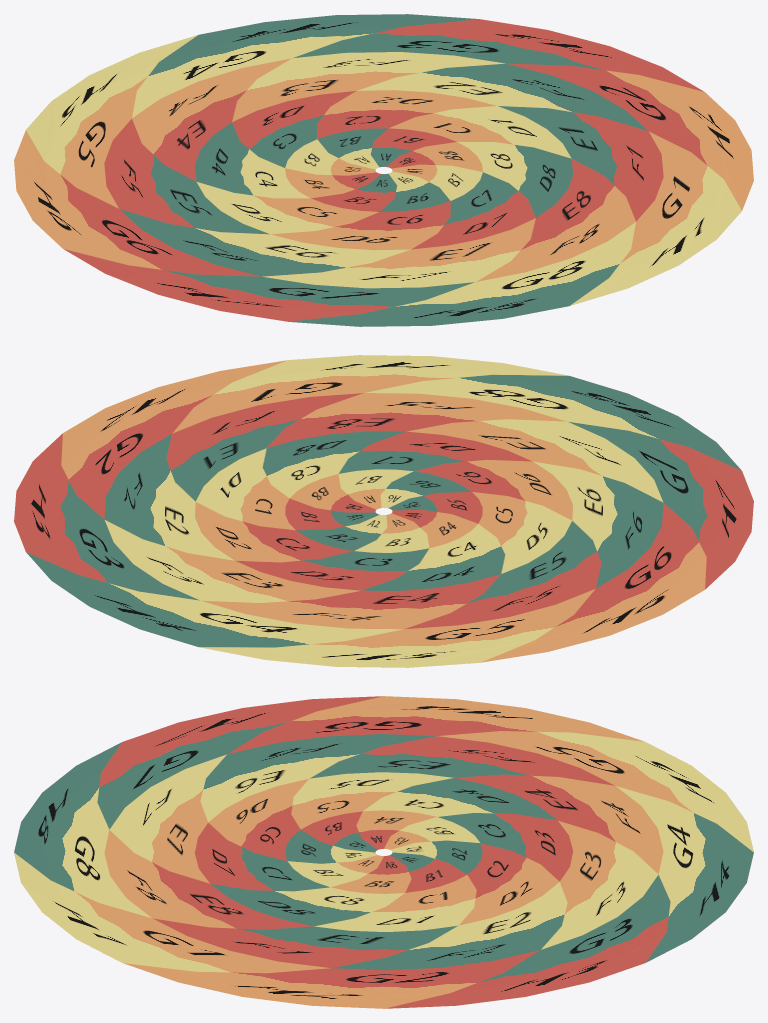
The model's file is SM_discSpiral.fbx.
3 renders of one model, top to bottom at view 1: azimuth 30°, elevation 25°; view 2: azimuth 150°, elevation 25°; view 3: azimuth 270°, elevation 25°, orthographic.
Parts seen in each view (by area): view 1: discGenerator; view 2: discGenerator; view 3: discGenerator.
Boxes of the visible parts, x1,y1,x2,y2 form: discGenerator: (14, 14, 753, 326); discGenerator: (14, 355, 753, 667); discGenerator: (14, 696, 753, 1008).
Size of the model in its own units: 200 by 0.1 by 200.
